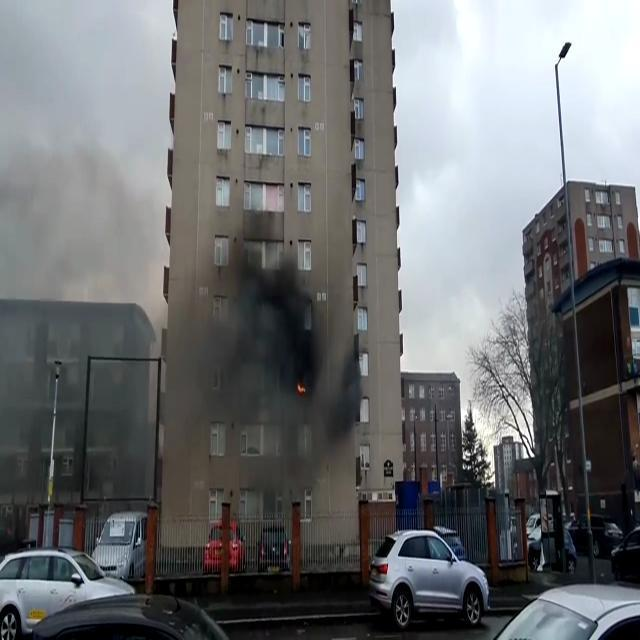Smoke: (0, 113, 168, 508), (192, 225, 364, 522)
